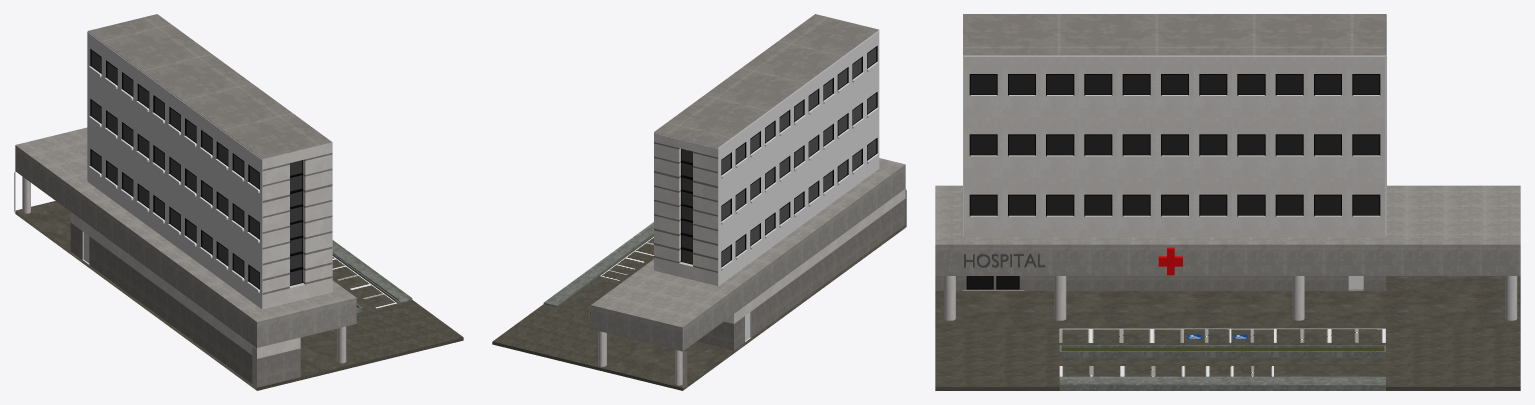
File: hospital.glb
3 views of the same model, side by side, from view 1: azimuth 30°, elevation 25°; view 2: azimuth 150°, elevation 25°; view 3: azimuth 270°, elevation 25° (orthographic). The views are drawn at different scales.
Parts seen in each view (by area): view 1: Cubo.005__0; view 2: Cubo.005__0; view 3: Cubo.005__0.
Boxes of the visible parts, box(x1,y1,x2,y2) form: Cubo.005__0: box(14, 14, 463, 390); Cubo.005__0: box(492, 14, 906, 390); Cubo.005__0: box(935, 14, 1520, 390).
Bounding box in the file's own units: 40 × 40 × 80.
11 materials, 11 textured.
